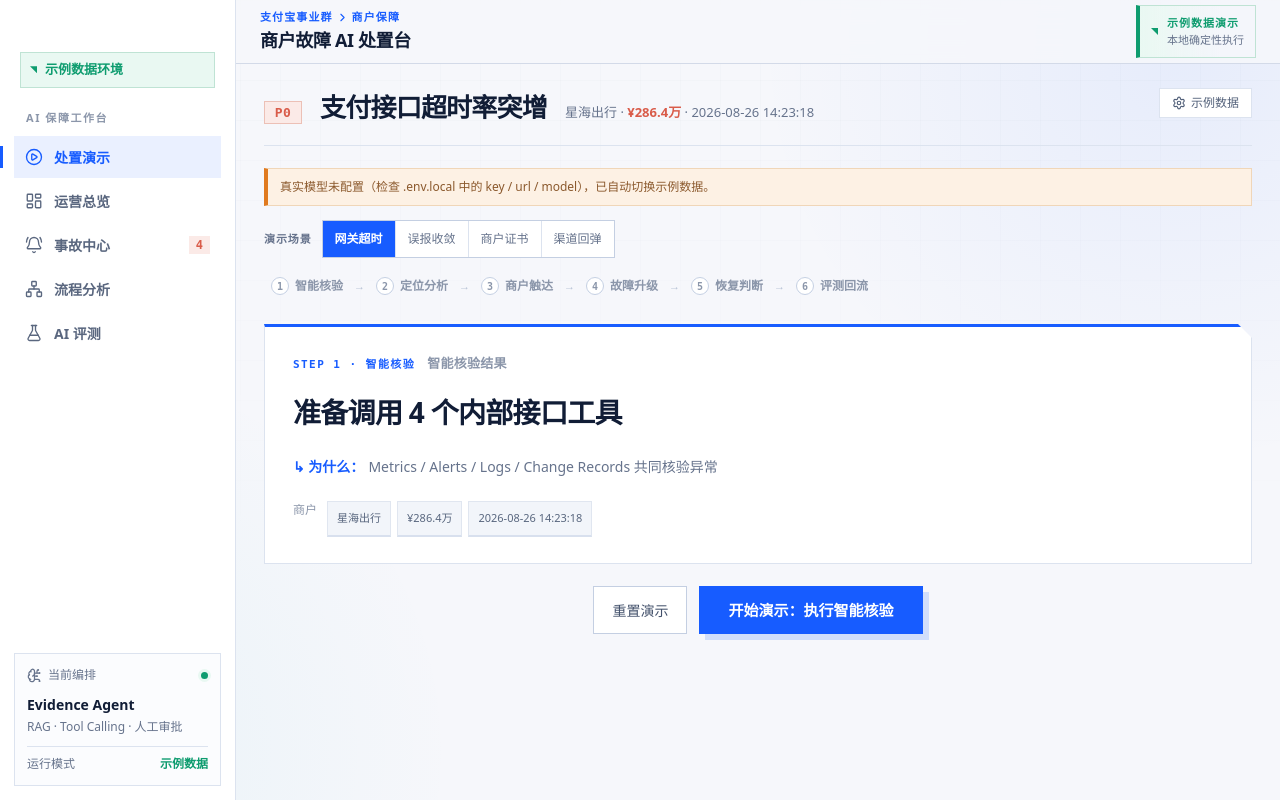
it: dashboard navigation › opens the operations overview placeholder
Click the button "运营总览": click(118, 201) [14,180,221,222]
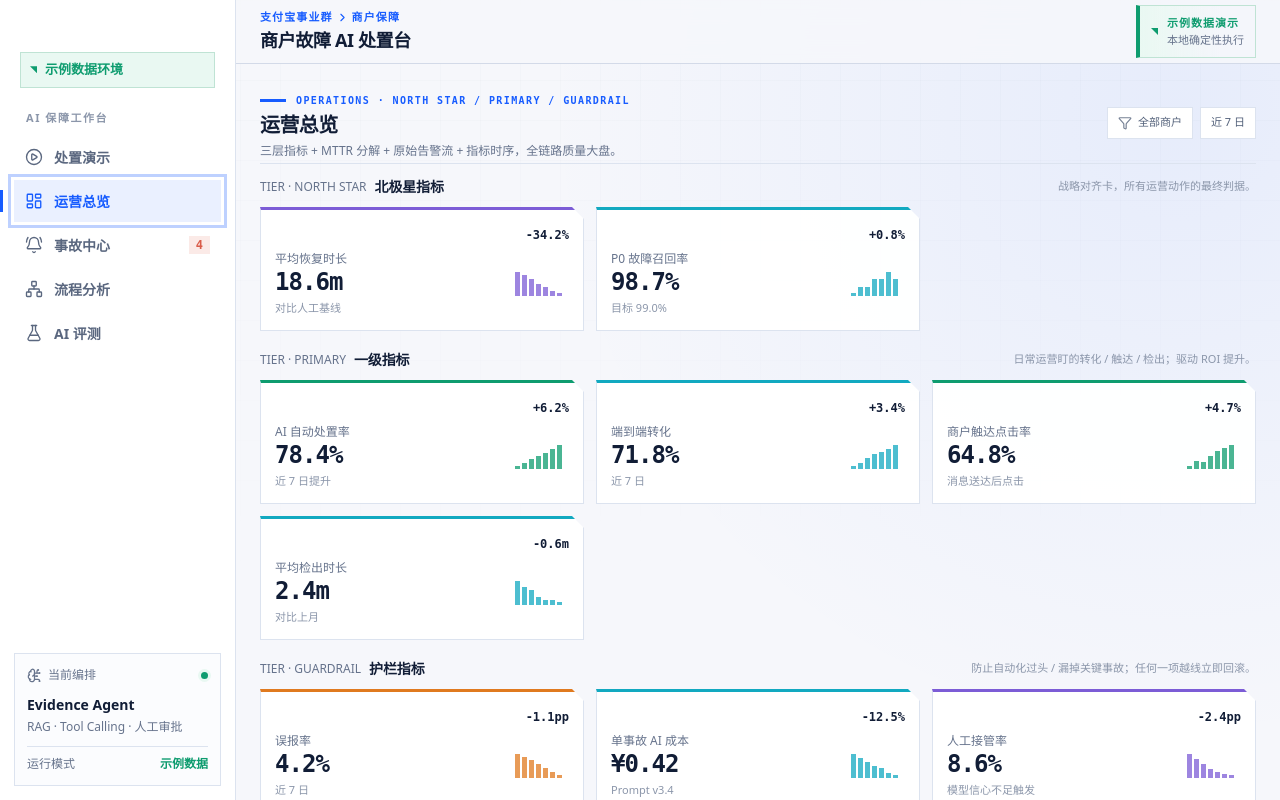
Result: the heading "运营总览" is shown at [260,110,338,138]
